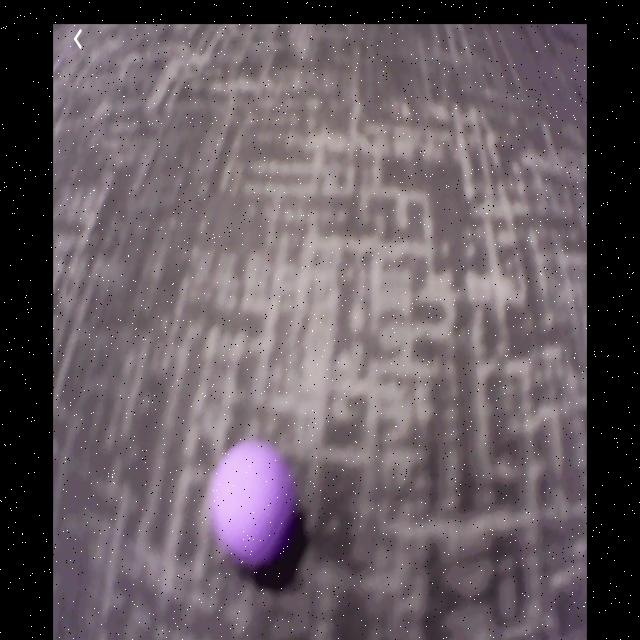ball: (216, 443, 300, 572)
